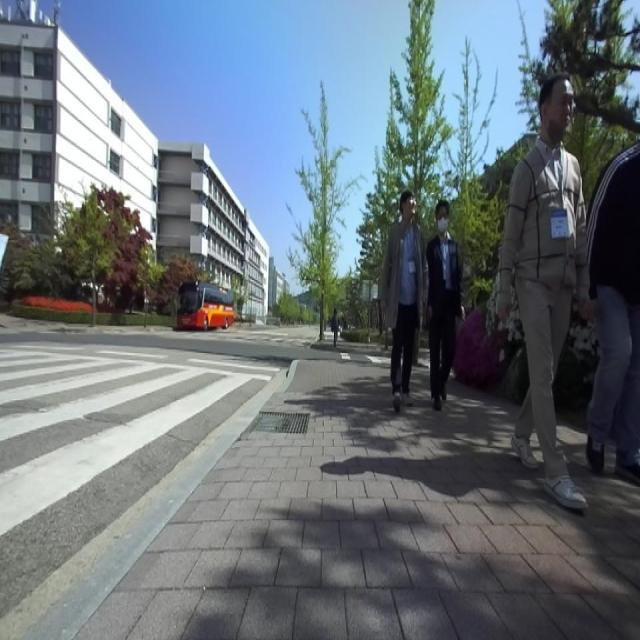sidewalk: (79, 360, 640, 640), (12, 359, 299, 640)
